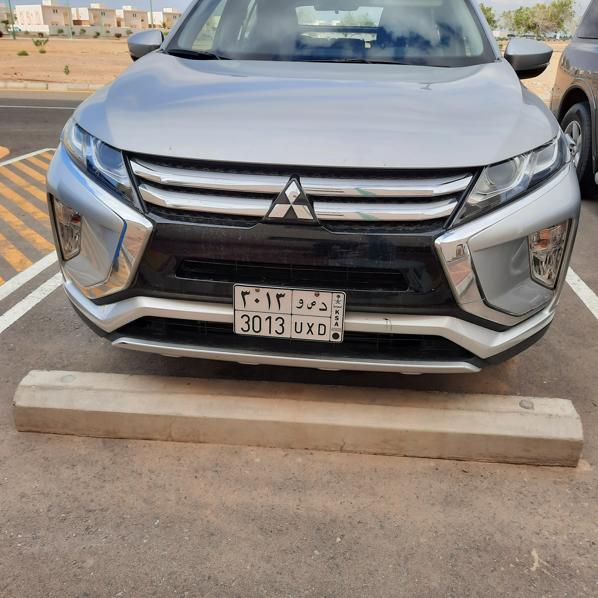numberplate: (235, 285, 344, 341)
